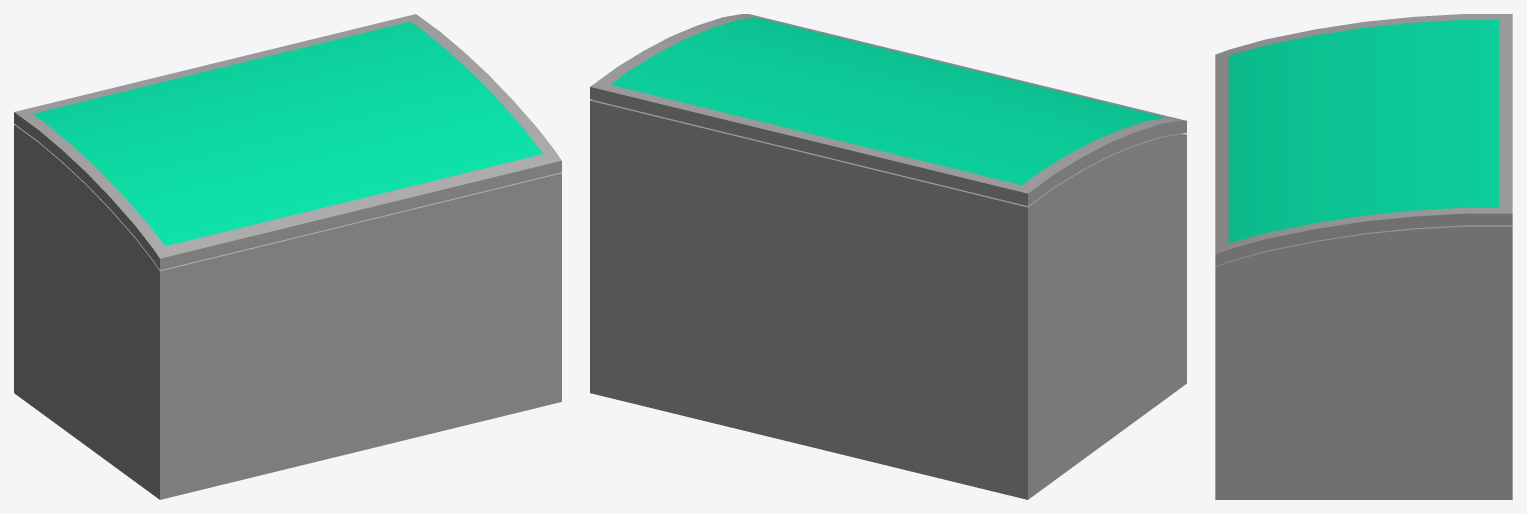
The model's file is DIner_Freezer.fbx.
The picture shows the model from 3 angles, left to right: view 1: azimuth 30°, elevation 25°; view 2: azimuth 150°, elevation 25°; view 3: azimuth 270°, elevation 25°; orthographic projection. The views are drawn at different scales.
Visible parts, largest first — view 1: pCube710; view 2: pCube710; view 3: pCube710.
Part boxes in pixels (left/top/right/bottom): pCube710: left=14, top=14, right=561, bottom=499; pCube710: left=590, top=14, right=1186, bottom=499; pCube710: left=1215, top=14, right=1512, bottom=499.
Bounding box in the file's own units: 1.81 × 1.21 × 1.14.
